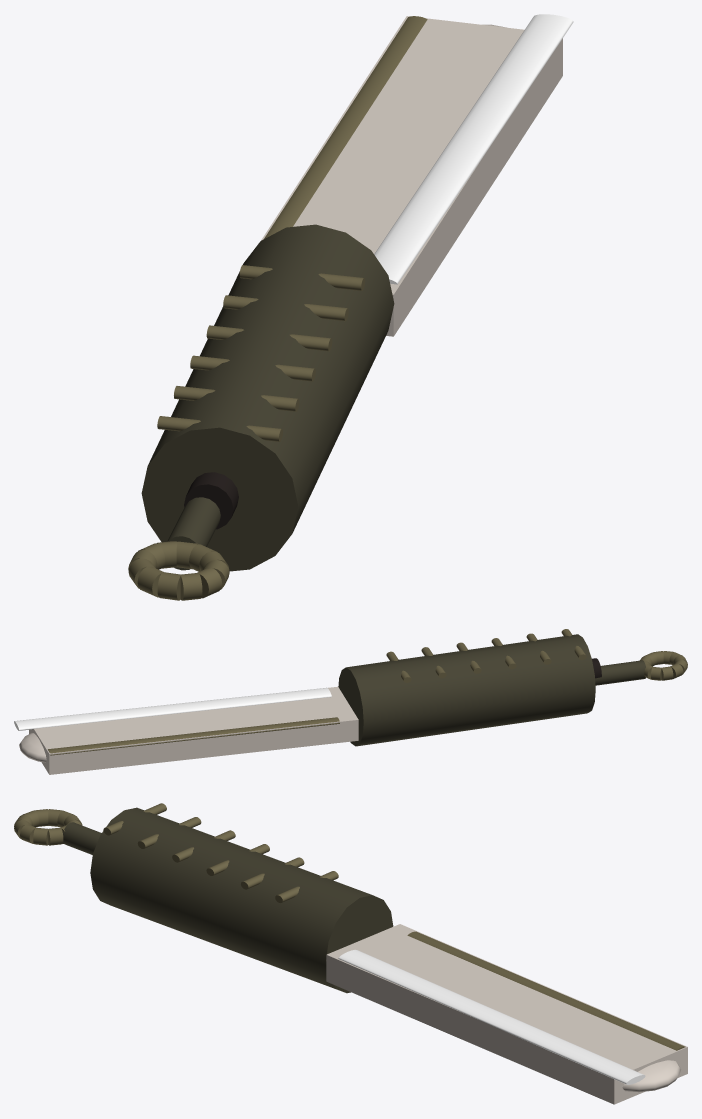
Rendered from CMU3DFieldCMM11KnifeCloud.glb.
The picture shows the model from 3 angles, top to bottom: view 1: azimuth 30°, elevation 25°; view 2: azimuth 150°, elevation 25°; view 3: azimuth 270°, elevation 25°; orthographic projection. The views are drawn at different scales.
Visible parts, largest first — view 1: olive stacked grip, steel blade core, continuous sharpened edge, blade spine highlight, loop attachment, dark grip spine, grip groove 1, grip groove 5, grip groove 4, grip groove 3, grip groove 6, grip groove 2; view 2: olive stacked grip, steel blade core, continuous sharpened edge, blade spine highlight, loop attachment, tapered rounded blade nose; view 3: olive stacked grip, steel blade core, continuous sharpened edge, blade spine highlight, tapered rounded blade nose, loop attachment.
Part boxes in pixels (x1,y1,x2,y2): olive stacked grip: [141, 224, 394, 571]; steel blade core: [261, 16, 562, 336]; continuous sharpened edge: [374, 14, 573, 284]; blade spine highlight: [264, 16, 427, 238]; loop attachment: [167, 497, 220, 570]; dark grip spine: [184, 472, 238, 529]; grip groove 1: [157, 416, 282, 441]; grip groove 5: [223, 295, 348, 321]; grip groove 4: [206, 325, 332, 351]; grip groove 3: [190, 355, 315, 381]; grip groove 6: [239, 265, 365, 290]; grip groove 2: [174, 386, 299, 411]; olive stacked grip: [338, 634, 595, 746]; steel blade core: [29, 686, 358, 774]; continuous sharpened edge: [14, 687, 331, 730]; blade spine highlight: [48, 717, 339, 755]; loop attachment: [595, 660, 645, 685]; tapered rounded blade nose: [19, 733, 46, 762]; olive stacked grip: [90, 807, 393, 993]; steel blade core: [326, 924, 687, 1104]; continuous sharpened edge: [338, 949, 645, 1084]; blade spine highlight: [407, 931, 685, 1050]; tapered rounded blade nose: [622, 1060, 680, 1092]; loop attachment: [63, 822, 101, 854].
Bounding box in the file's own units: 0.6101 × 0.095 × 0.6255.
